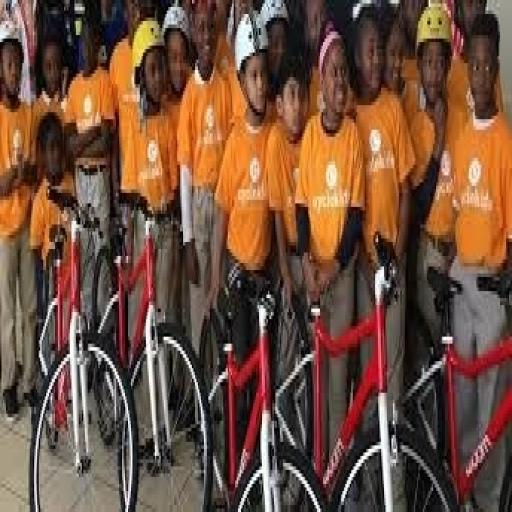cycling: (1, 0, 510, 508), (293, 18, 369, 498)
